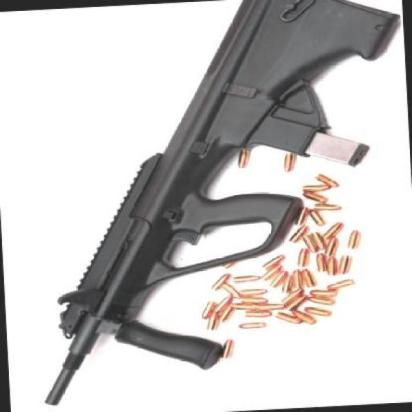Gun: (11, 0, 410, 409)
